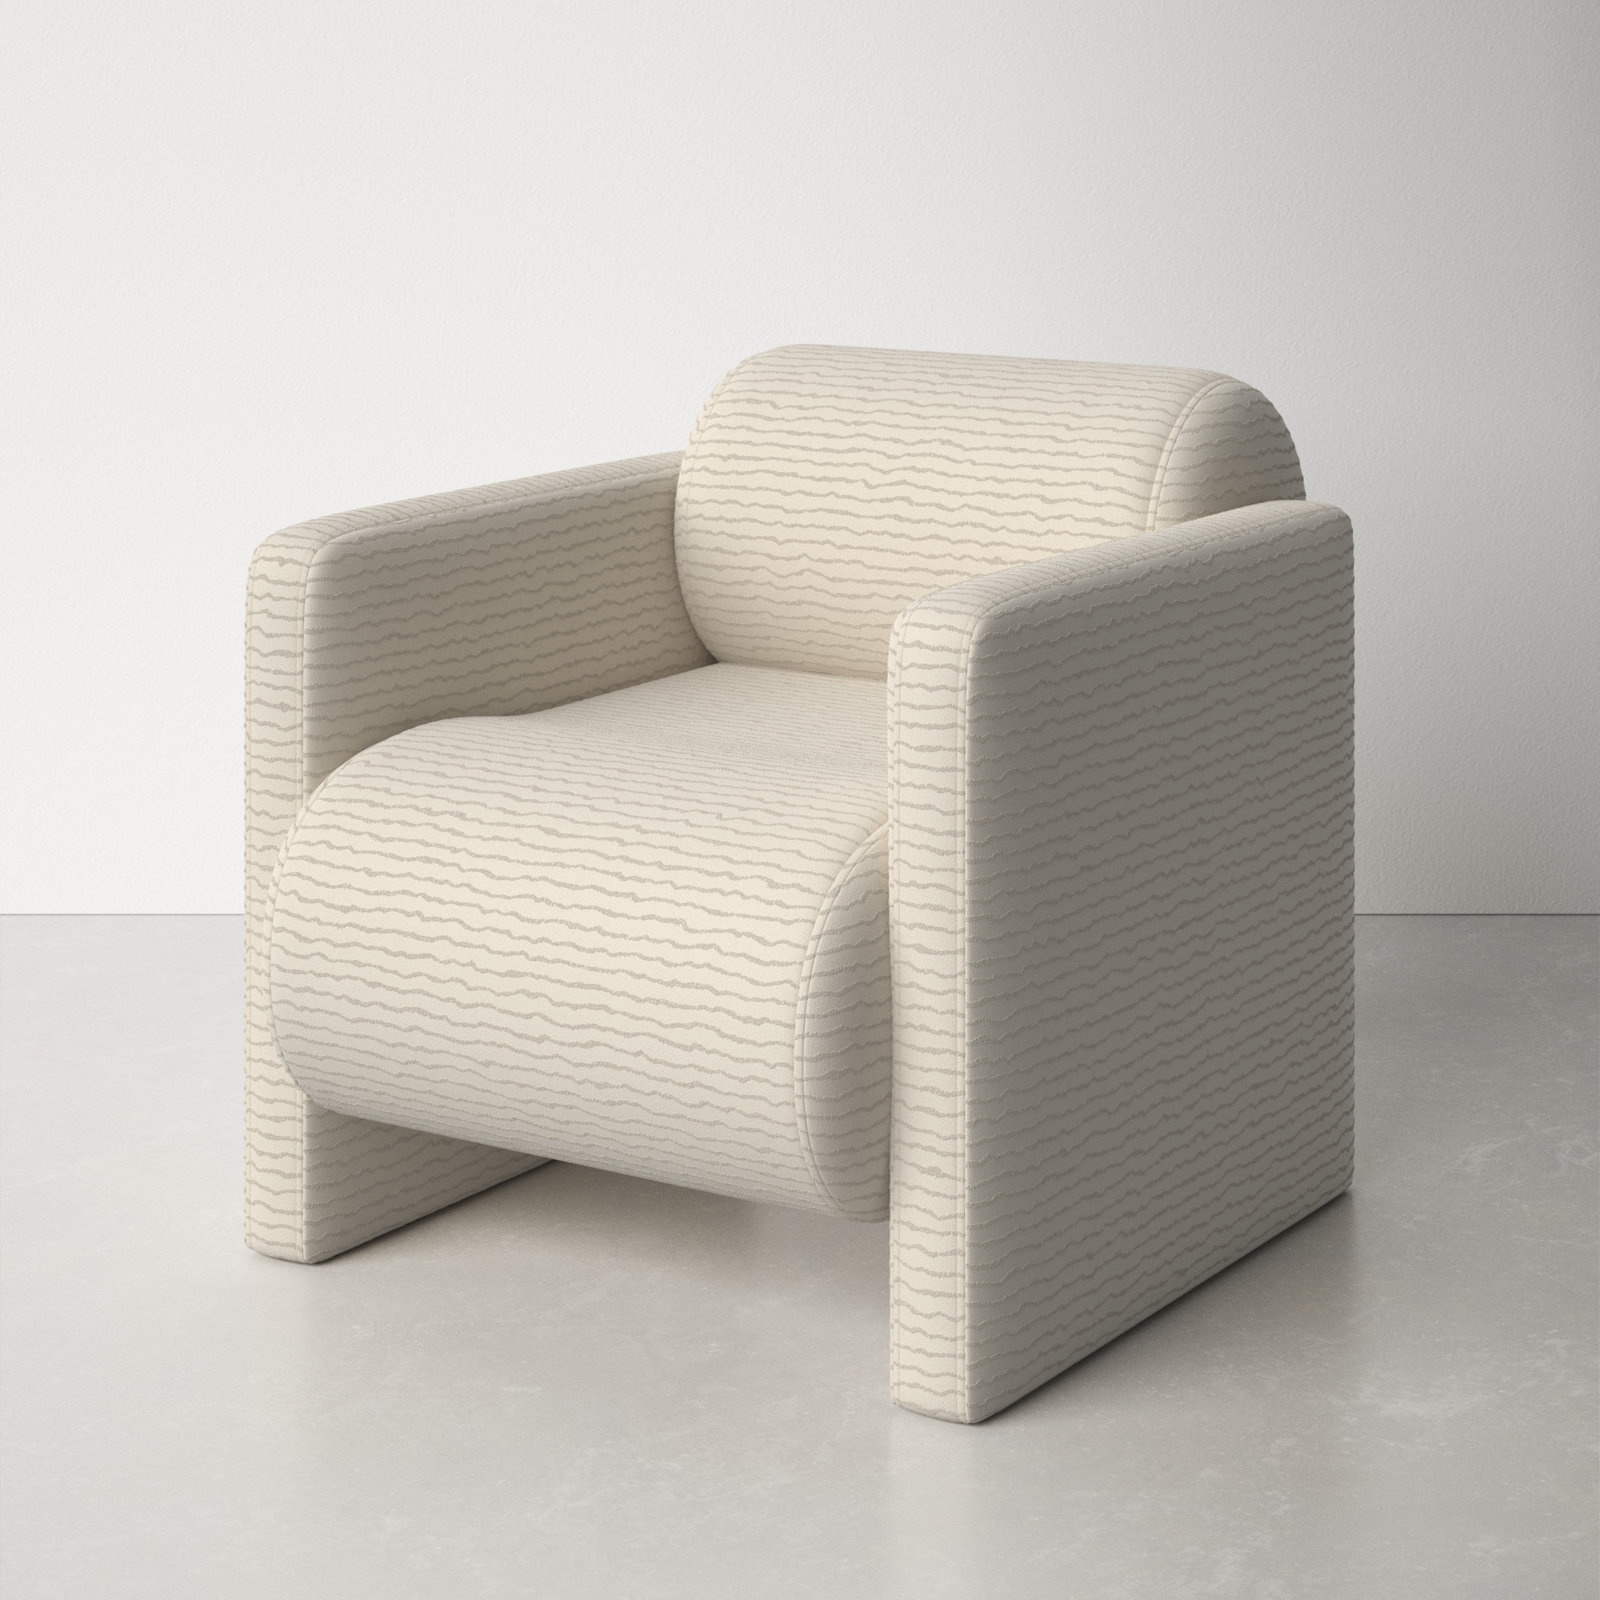obstacle: (248, 346, 1352, 1420)
